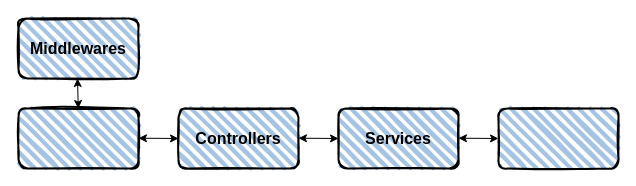
The diagram is 636 pixels wide and 186 high, and some of its shapes have lost their labels. Here are the shapes that lost their labels. From the top down, the centre of each, then its label:
At (x=78, y=138): "Routes".
At (x=558, y=138): "Models".
